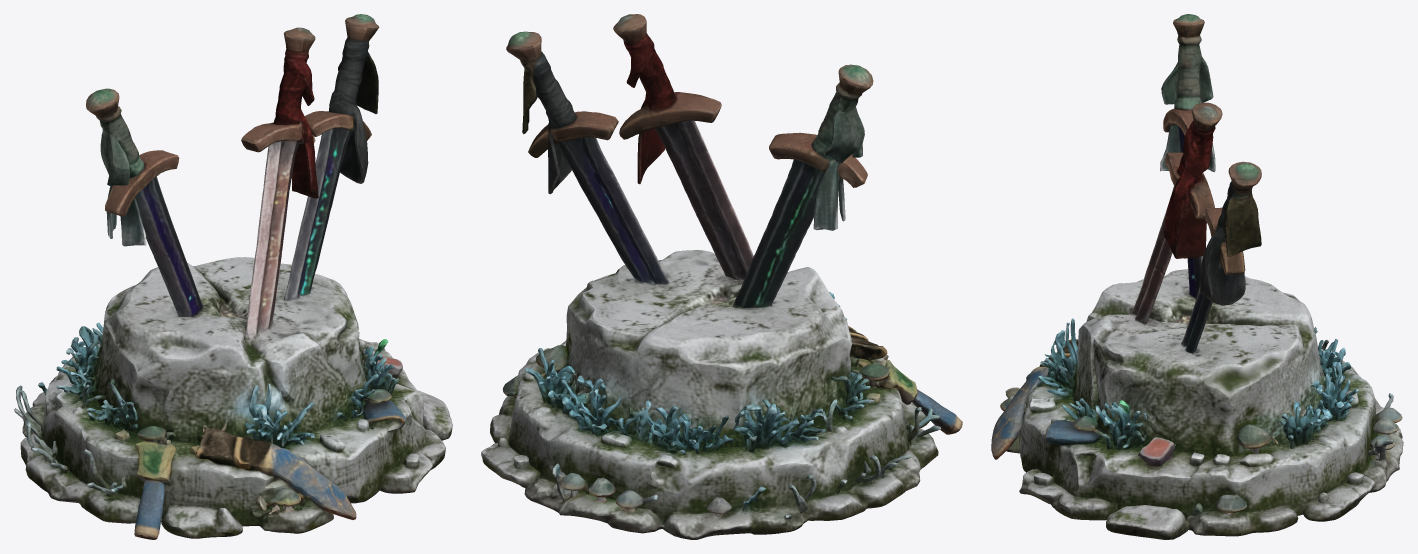
The model's file is sword.glb.
3 views of the same model, side by side, from view 1: azimuth 30°, elevation 25°; view 2: azimuth 150°, elevation 25°; view 3: azimuth 270°, elevation 25° (orthographic). The views are drawn at different scales.
Parts seen in each view (by area): view 1: world; view 2: world; view 3: world.
Boxes of the visible parts, <box> form: world: <box>14,14,452,539</box>; world: <box>481,14,962,539</box>; world: <box>991,14,1403,539</box>.
Size of the model in its own units: 0.552 by 0.55 by 0.539.
1 material, 1 textured.
